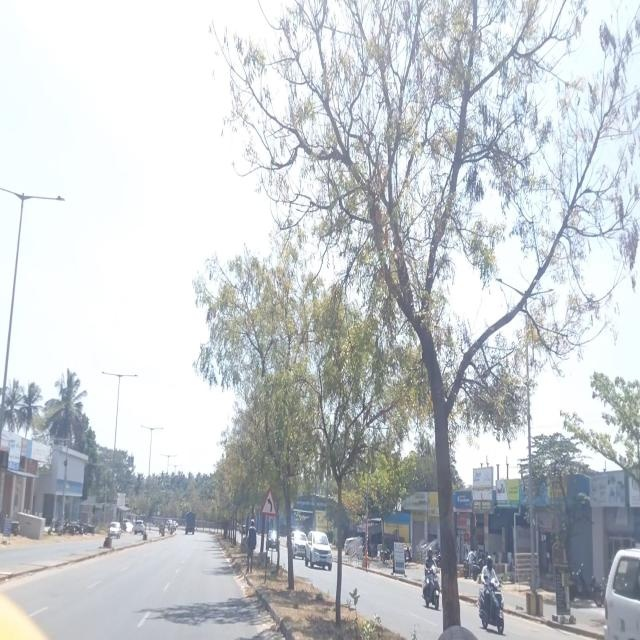bien_nguy_hiem: (261, 487, 277, 517)
